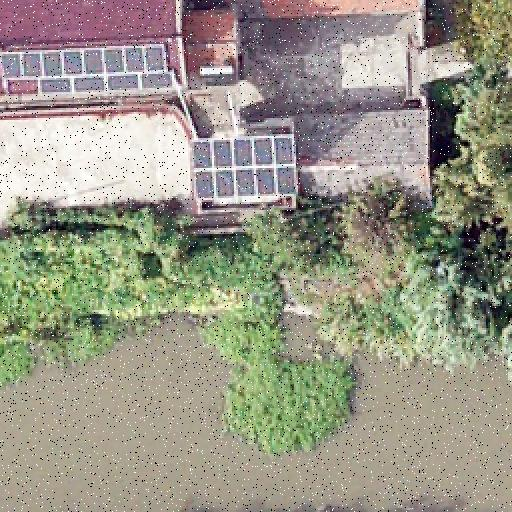solar-panel: (2, 45, 194, 107), (180, 134, 302, 210)
